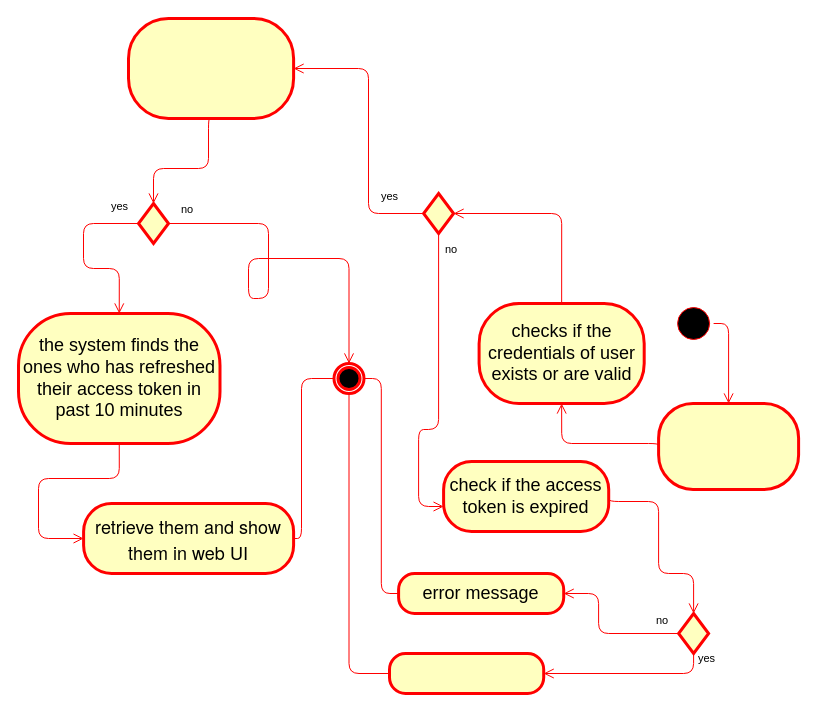
Some shapes in this 818 by 712 pixel diagram are drawn without their labels. The shapes that lost their labels are listed below. From the top down, each one's box as (x1, y1, x2, y2) in pixels, then its label:
(126, 16, 295, 120): checks if the user is a valid admin
(657, 402, 800, 490): Request for online users by admin
(388, 652, 545, 694): need refresh
